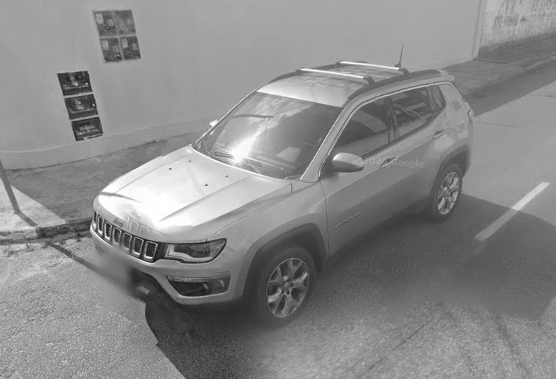car: (86, 42, 477, 326)
